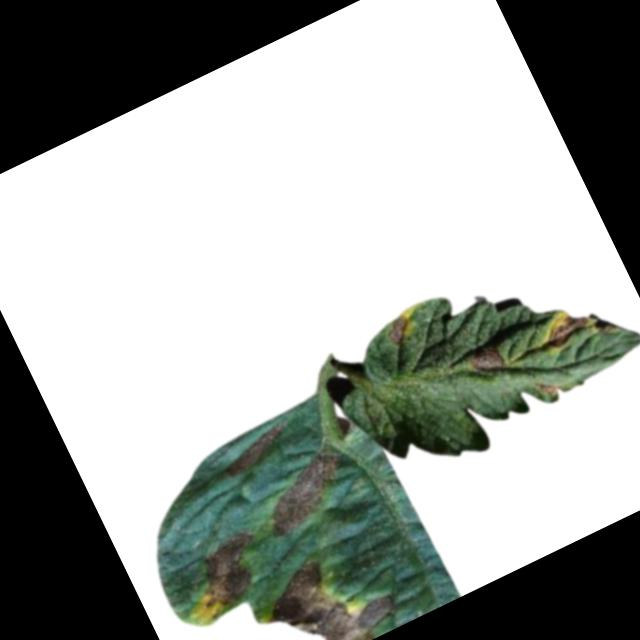Early_blight: (252, 536, 407, 640), (246, 445, 360, 547), (180, 527, 274, 617), (215, 419, 292, 481), (537, 304, 594, 356), (462, 343, 507, 383), (381, 312, 419, 349), (533, 375, 565, 405)
